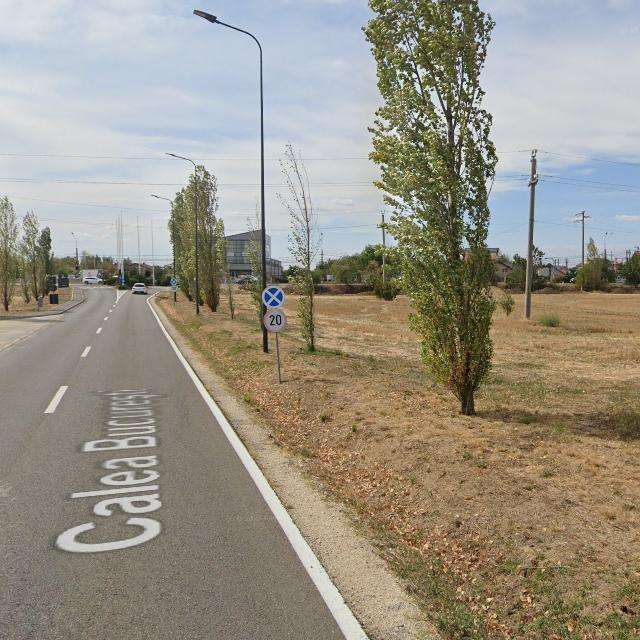forb_speed_over_20: (263, 308, 288, 333)
forb_waiting: (262, 285, 285, 308), (170, 277, 178, 287)
